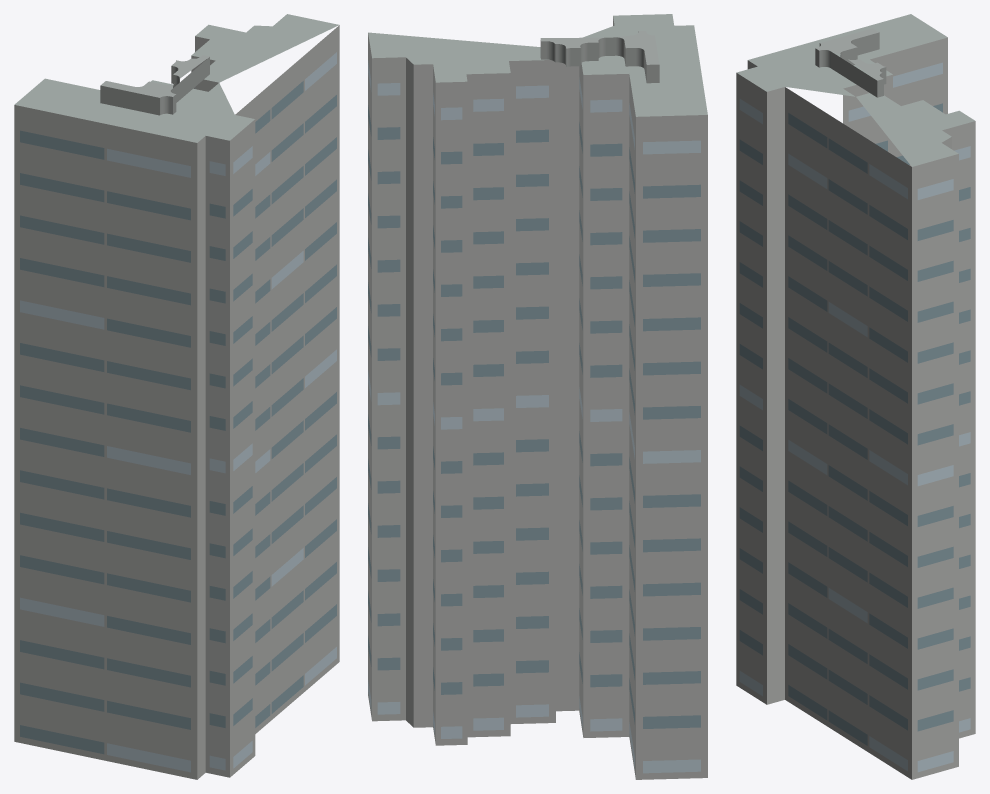
Rendered from fallback-godeok-arteon-completion-338.glb.
3 views of the same model, side by side, from view 1: azimuth 30°, elevation 25°; view 2: azimuth 150°, elevation 25°; view 3: azimuth 270°, elevation 25° (orthographic). The views are drawn at different scales.
Visible parts, largest first — view 1: fallback-godeok-arteon-completion-338; view 2: fallback-godeok-arteon-completion-338; view 3: fallback-godeok-arteon-completion-338.
Boxes of the visible parts, x1,y1,x2,y2 form: fallback-godeok-arteon-completion-338: (14, 14, 339, 779); fallback-godeok-arteon-completion-338: (368, 14, 707, 779); fallback-godeok-arteon-completion-338: (736, 14, 975, 779).
Size of the model in its own units: 46.38 by 89 by 30.65.
